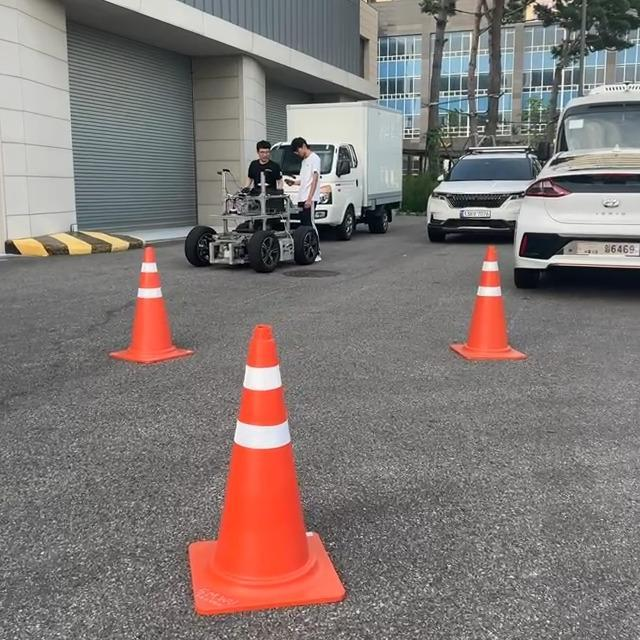fallen_object: (202, 304, 334, 614), (406, 226, 537, 409), (117, 247, 209, 373)
